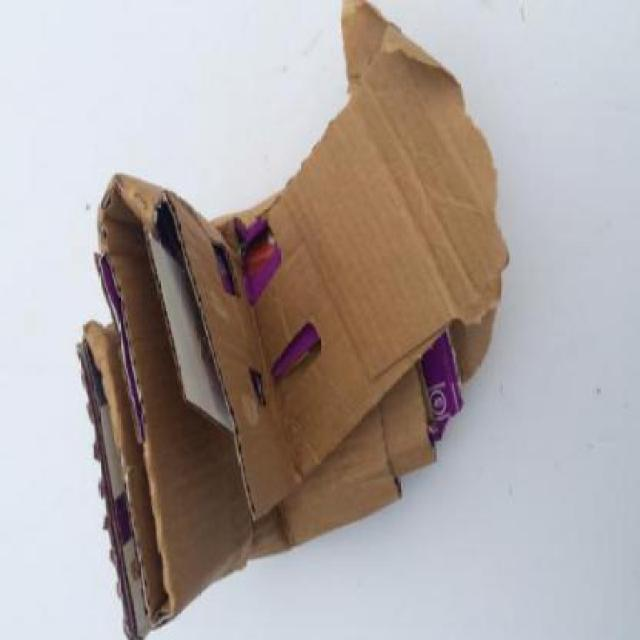box: (66, 0, 517, 640)
